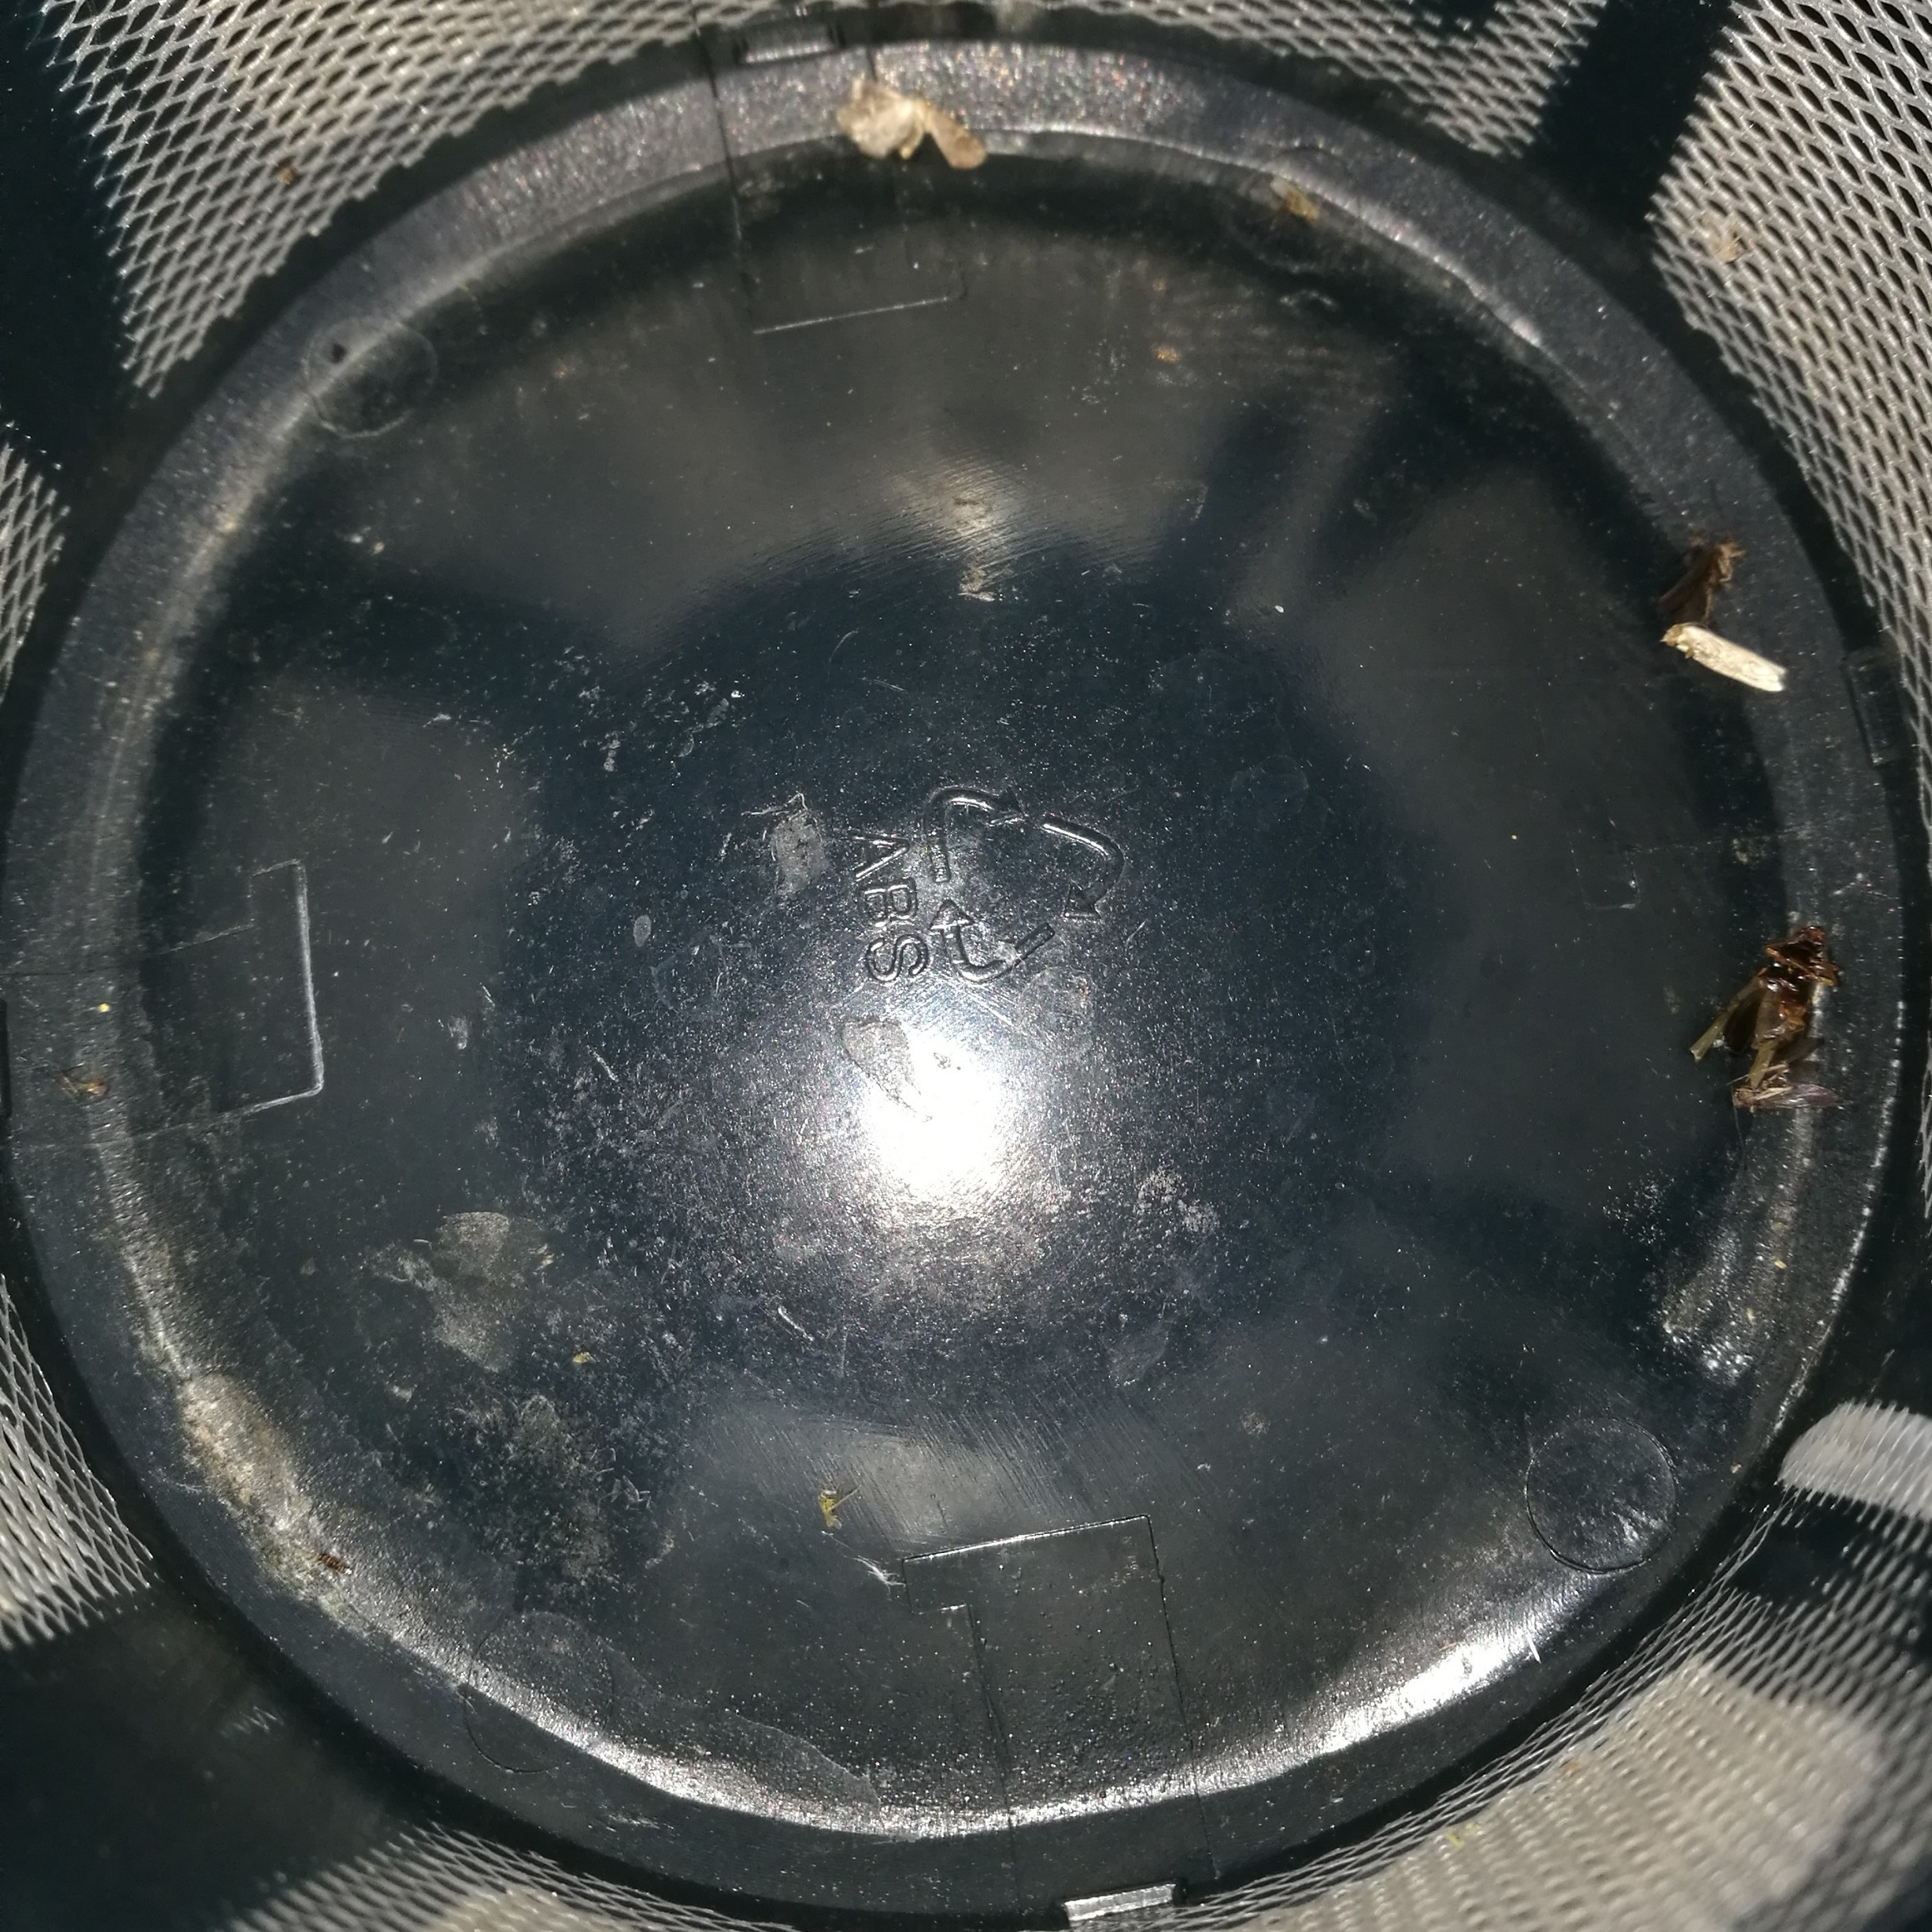moth: (840, 96, 985, 172)
